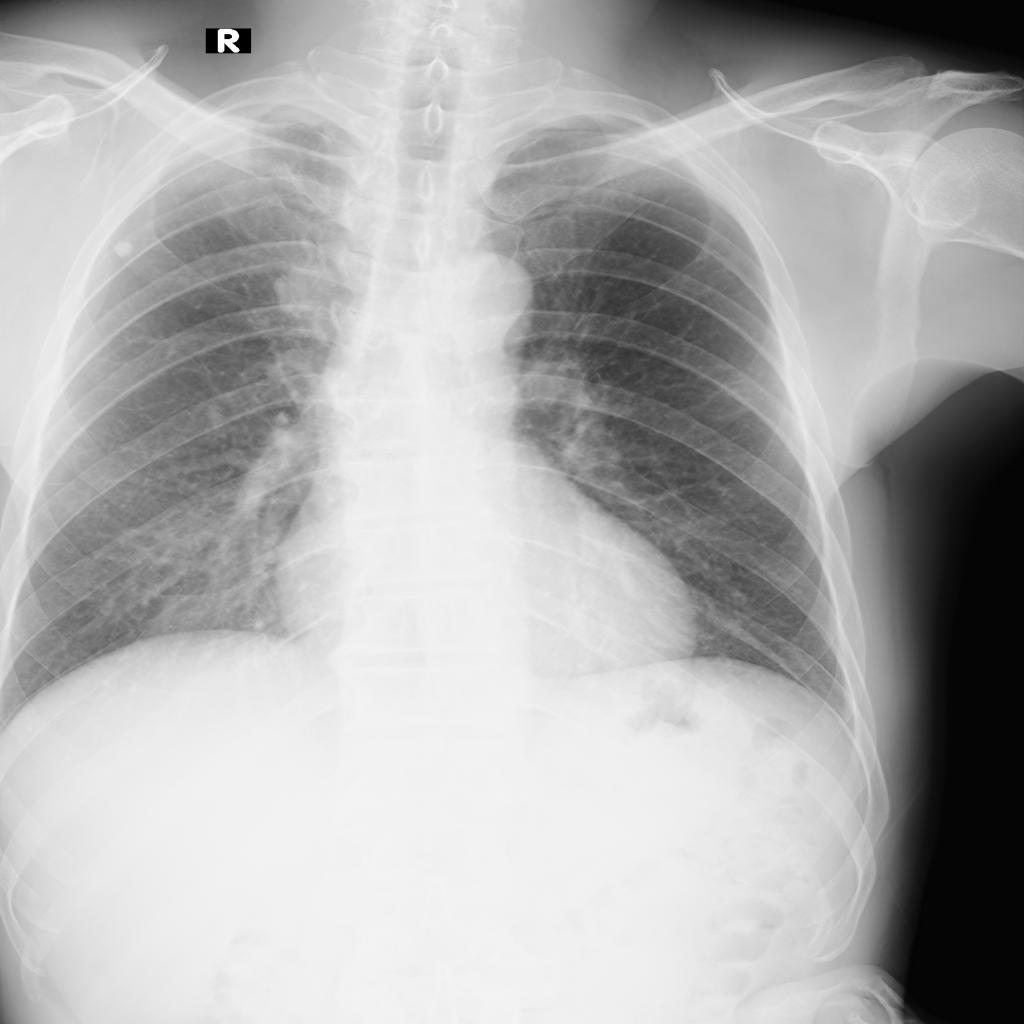Nodule: (273, 262, 347, 321), (114, 240, 132, 257)
